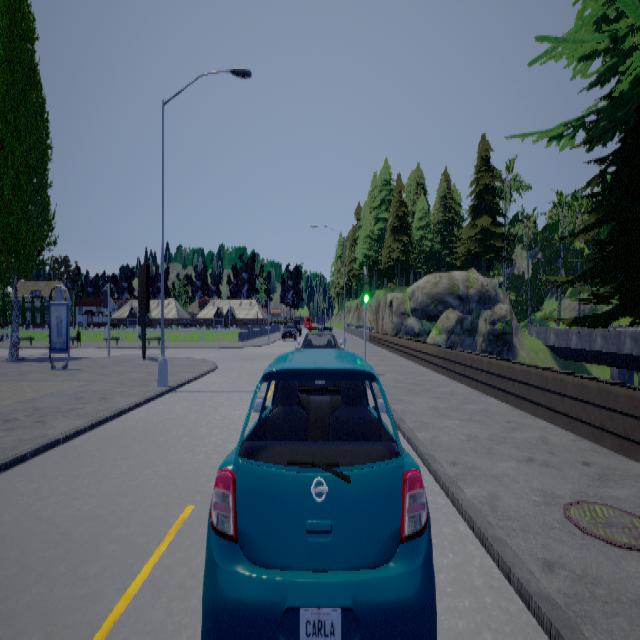green_light: (362, 266, 368, 308)
vehicle: (200, 344, 438, 638)
